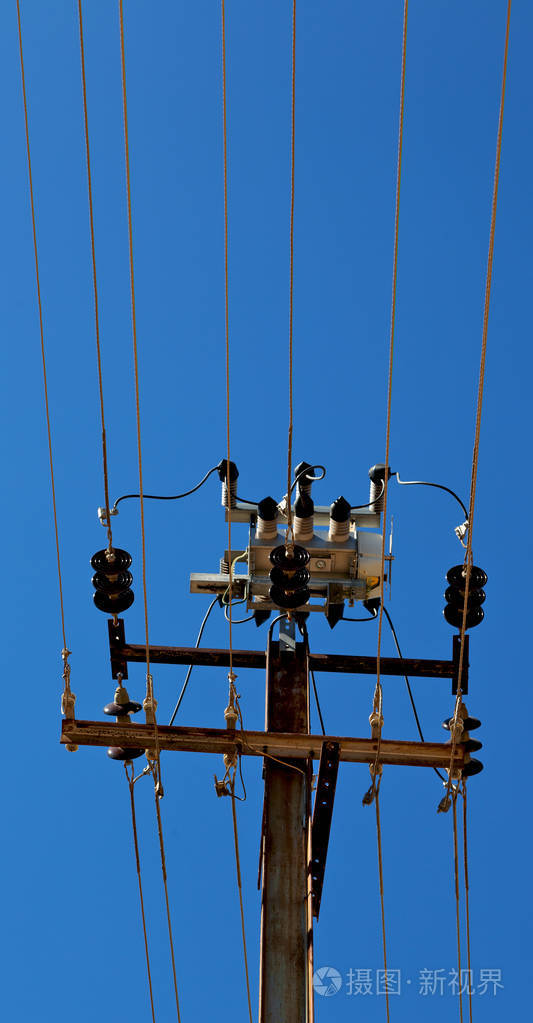insulator: (89, 546, 139, 613), (442, 566, 490, 633), (443, 717, 486, 783), (269, 545, 311, 611), (104, 698, 147, 761)
